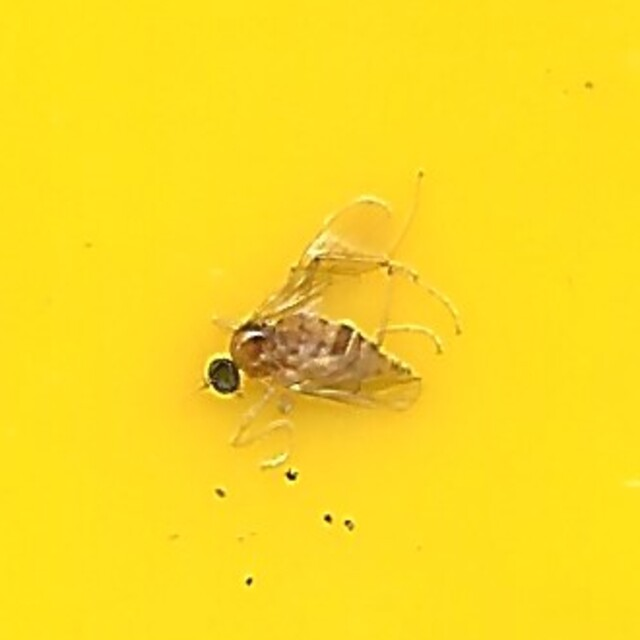Brachycera: (194, 210, 446, 430)
